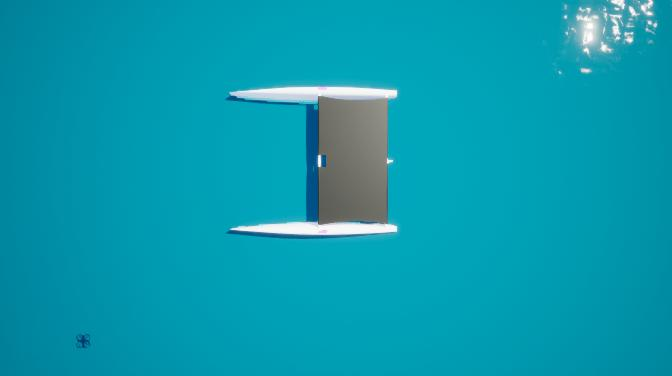boat: (228, 83, 399, 241)
drone: (74, 332, 94, 353)
land_base: (320, 96, 387, 225)
light_reflex: (543, 1, 667, 84)
